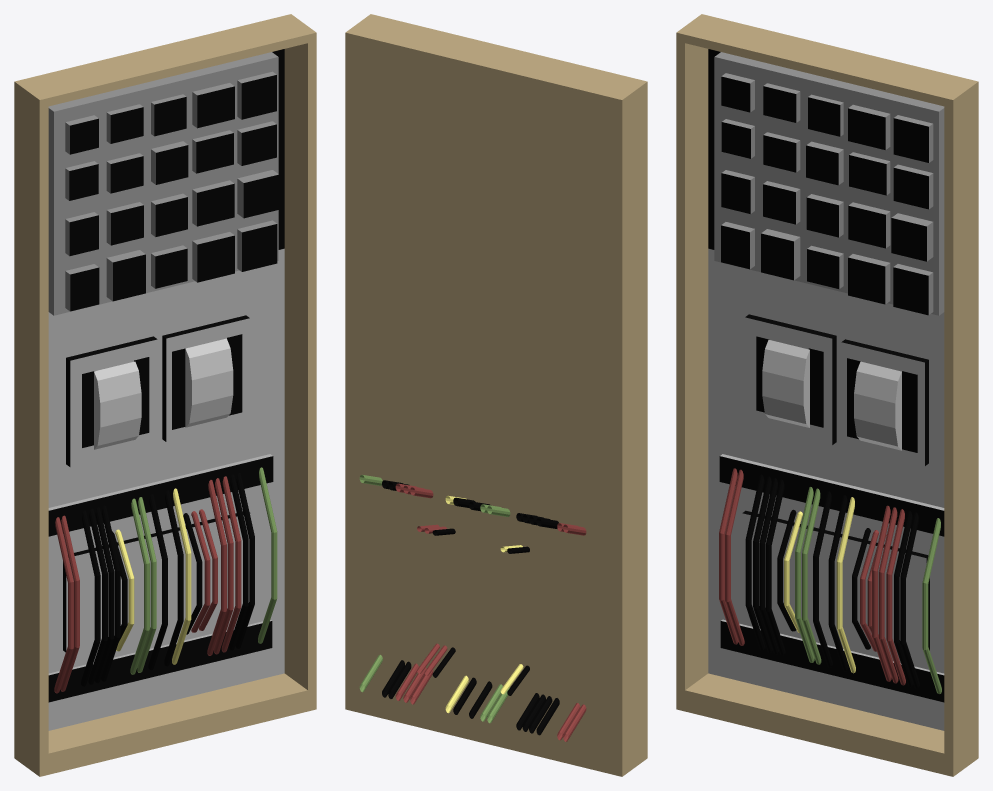
File: QuadroEletrico.fbx
The picture shows the model from 3 angles, left to right: view 1: azimuth 30°, elevation 25°; view 2: azimuth 150°, elevation 25°; view 3: azimuth 330°, elevation 25°; orthographic projection.
Parts seen in each view (by area): view 1: QuadroEletrico; view 2: QuadroEletrico; view 3: QuadroEletrico.
Part boxes in pixels (x1=…): QuadroEletrico: x1=14, y1=14, x2=316, y2=776; QuadroEletrico: x1=345, y1=14, x2=647, y2=776; QuadroEletrico: x1=676, y1=14, x2=978, y2=776.
Bounding box in the file's own units: 1.42 × 3.32 × 0.3872.
